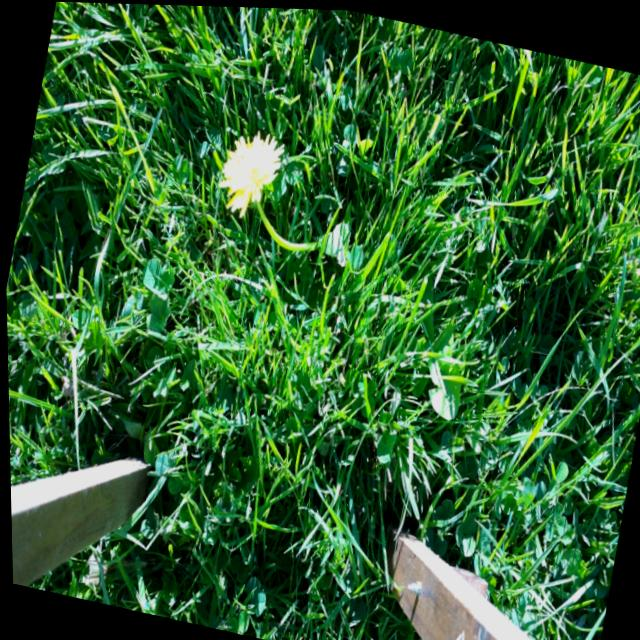base: (298, 220, 329, 261)
